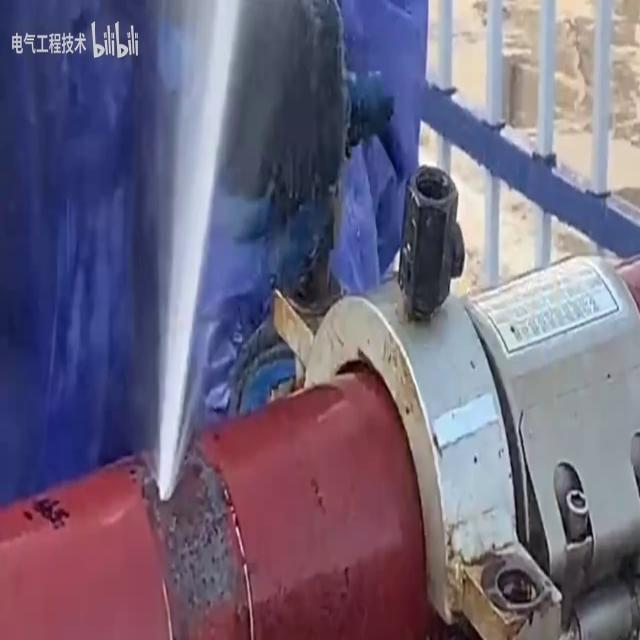leak: (145, 0, 245, 503)
